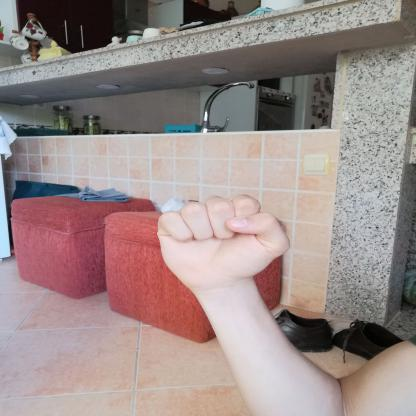SAD: (144, 185, 300, 295)
